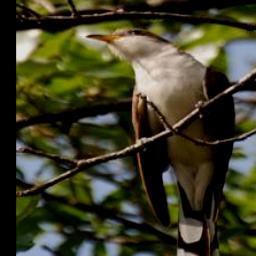Cuckoo: (84, 26, 239, 256)
